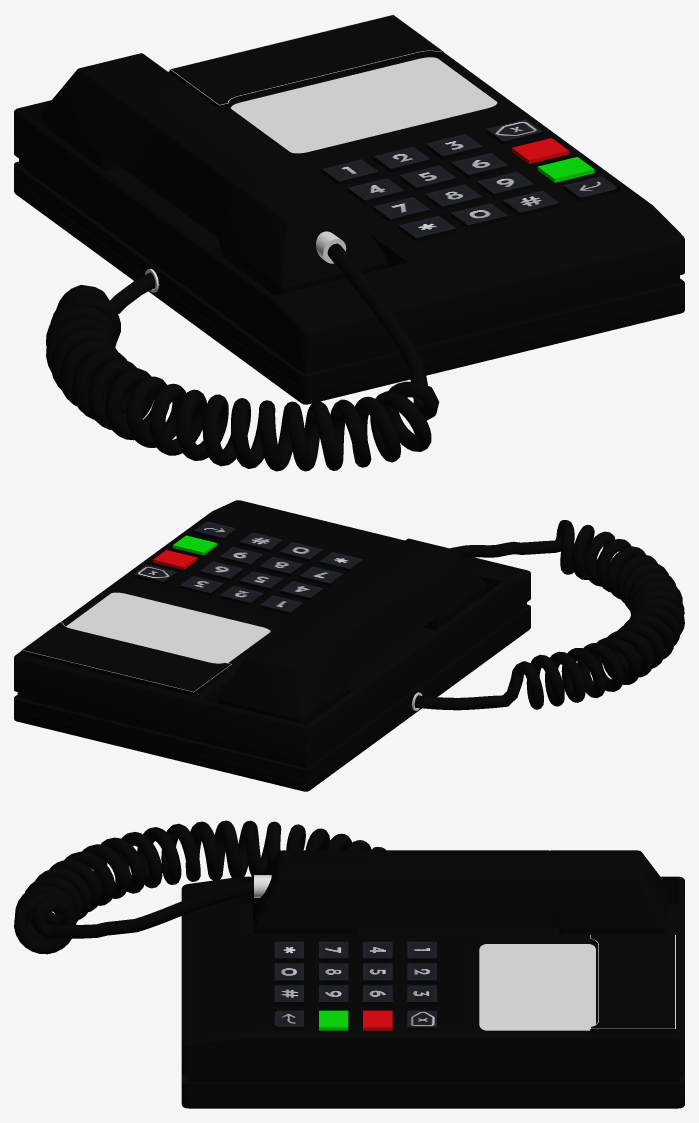
The model's file is Telephone.fbx.
3 renders of one model, top to bottom at view 1: azimuth 30°, elevation 25°; view 2: azimuth 150°, elevation 25°; view 3: azimuth 270°, elevation 25°, orthographic. The views are drawn at different scales.
Parts seen in each view (by area): view 1: Cube.028, Spiral.001; view 2: Cube.028, Spiral.001; view 3: Cube.028, Spiral.001.
Part boxes in pixels (x1,y1,x2,y2): Cube.028: (14,14,684,404); Spiral.001: (46,243,439,471); Cube.028: (14,500,530,791); Spiral.001: (414,520,684,710); Cube.028: (181,850,684,1108); Spiral.001: (14,820,385,954).
Size of the model in its own units: 24.65 by 5.51 by 28.86.
Materials: 12 (2 with a texture image).
